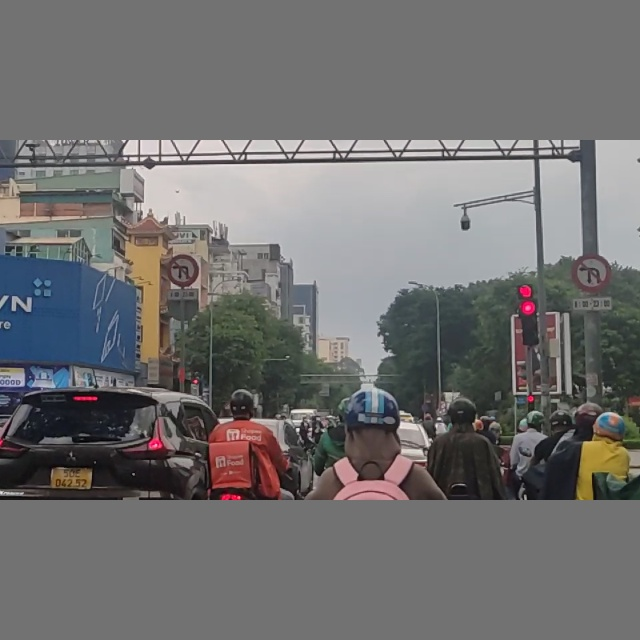P.124c: (575, 256, 609, 293), (168, 253, 198, 285)
